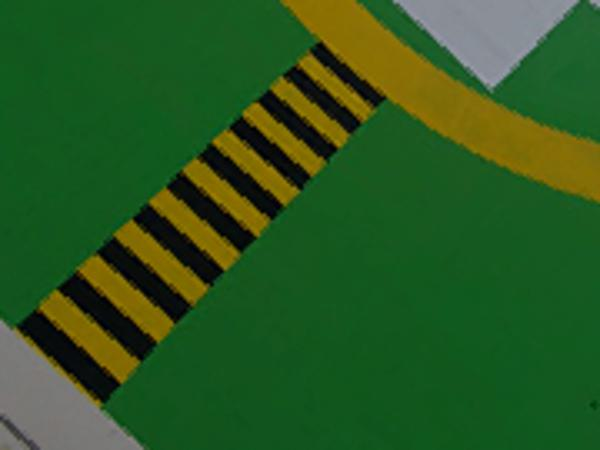Apron: (277, 1, 600, 203)
